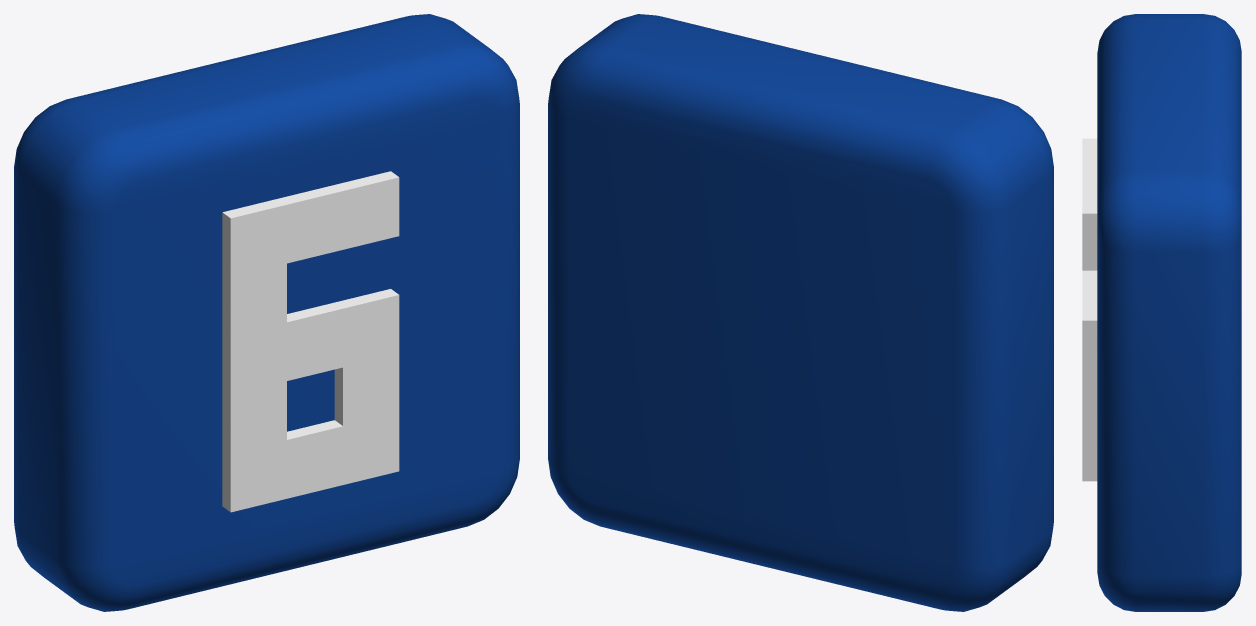
File: keycap_6.gltf
3 renders of one model, left to right at view 1: azimuth 30°, elevation 25°; view 2: azimuth 150°, elevation 25°; view 3: azimuth 270°, elevation 25°, orthographic. The views are drawn at different scales.
Parts seen in each view (by area): view 1: Cube.6584; view 2: Cube.6584; view 3: Cube.6584.
Boxes of the visible parts, x1,y1,x2,y2 form: Cube.6584: (14, 14, 519, 611); Cube.6584: (548, 14, 1053, 611); Cube.6584: (1082, 14, 1241, 611).
Size of the model in its own units: 2.2 by 2.2 by 0.73.
Materials: 1 (1 with a texture image).
